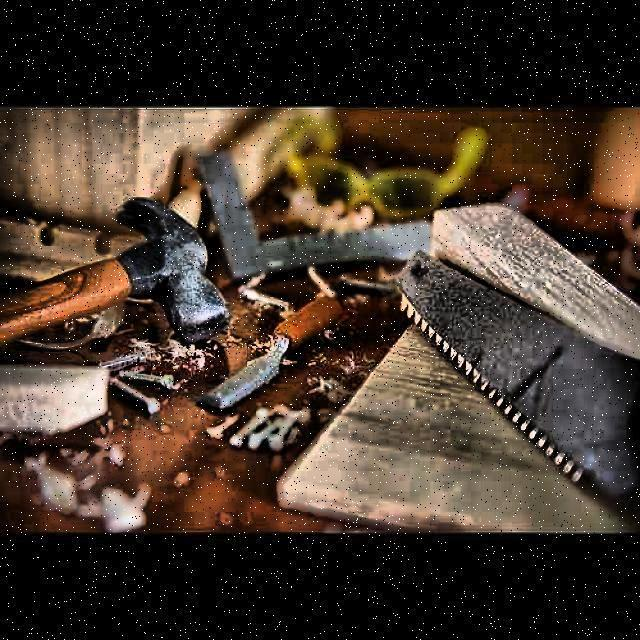hammer: (0, 194, 236, 352)
